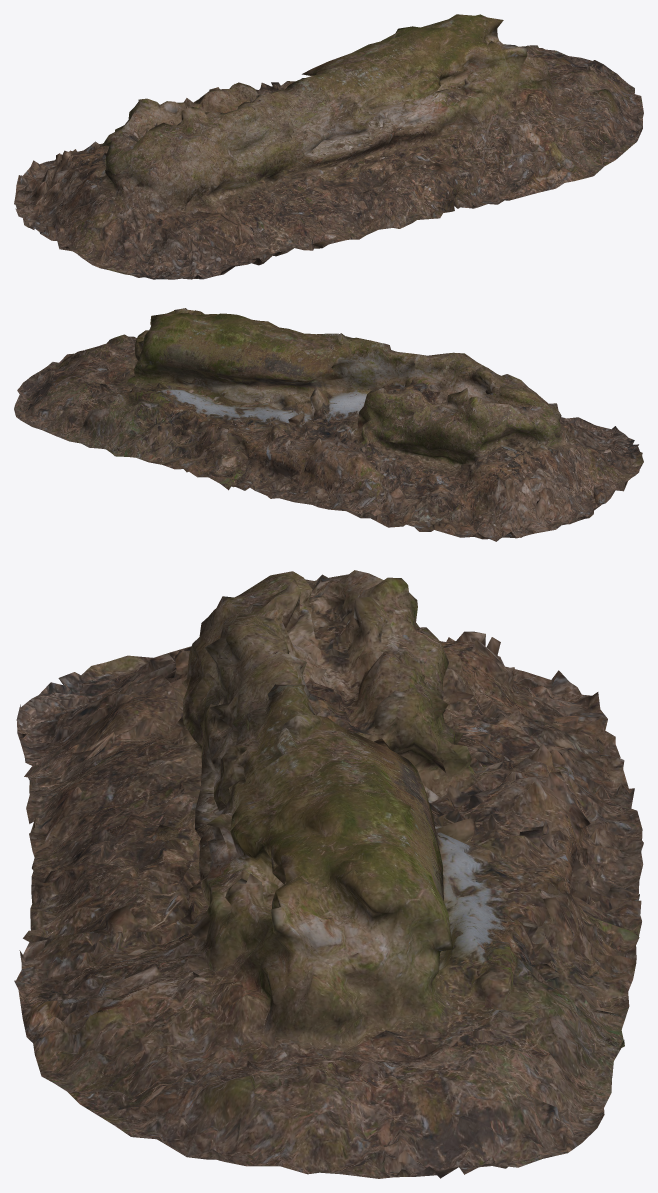
Rendered from PX_Fallen_Trunk_03_LOD2.fbx.
3 views of the same model, one above another, from view 1: azimuth 30°, elevation 25°; view 2: azimuth 150°, elevation 25°; view 3: azimuth 270°, elevation 25° (orthographic). The views are drawn at different scales.
Visible parts, largest first — view 1: PX_Fallen_Trunk_03_LOD2; view 2: PX_Fallen_Trunk_03_LOD2; view 3: PX_Fallen_Trunk_03_LOD2.
Boxes of the visible parts, <box> form: PX_Fallen_Trunk_03_LOD2: <box>14,14,643,279</box>; PX_Fallen_Trunk_03_LOD2: <box>14,308,643,541</box>; PX_Fallen_Trunk_03_LOD2: <box>14,570,643,1178</box>.
Size of the model in its own units: 178 by 32.64 by 87.85.
